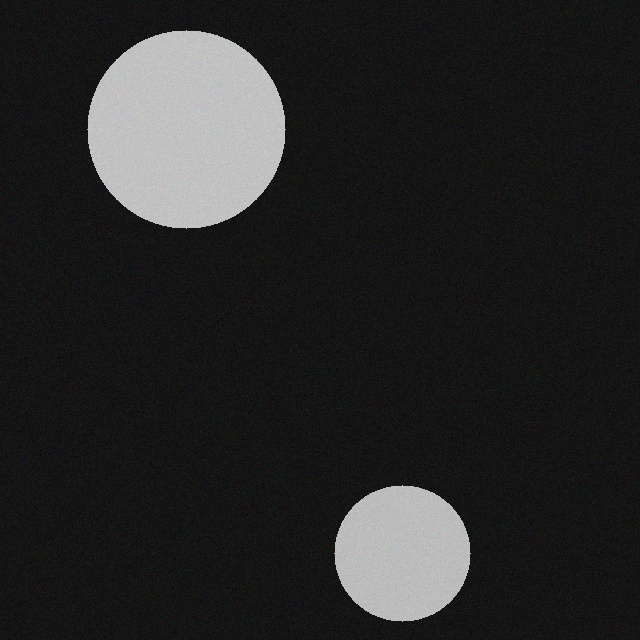circle: (80, 37, 278, 235), (327, 492, 463, 628)
